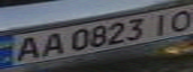0: (66, 26, 90, 53)
2: (106, 19, 130, 47)
3: (124, 16, 154, 42)
8: (87, 22, 112, 50)
A: (6, 34, 48, 64), (33, 30, 69, 59)
I: (145, 11, 178, 37)
O: (160, 7, 193, 33)
